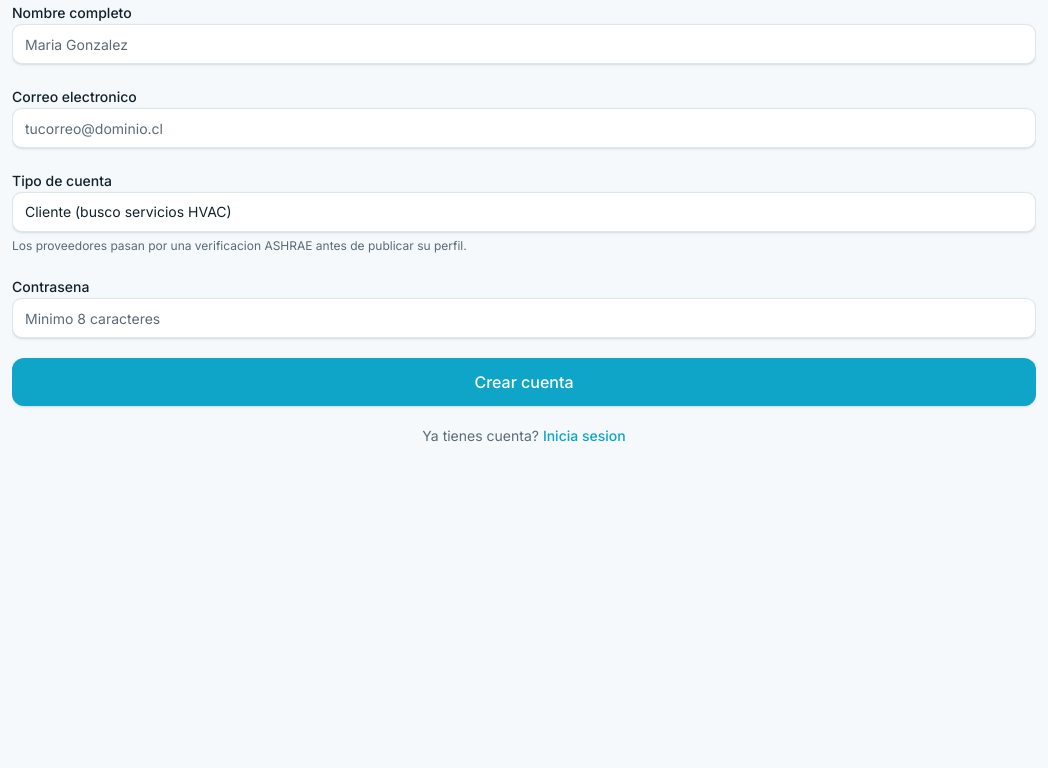
it: AuthForm (registro) › valida RUT y telefono cuando el rol es proveedor
The width and height of the screenshot is (1048, 768).
Step 1. Select "Proveedor (ofrezco servicios HVAC)" in the dropdown labelled "Tipo de cuenta" → (524, 212), box [12,192,1036,232]
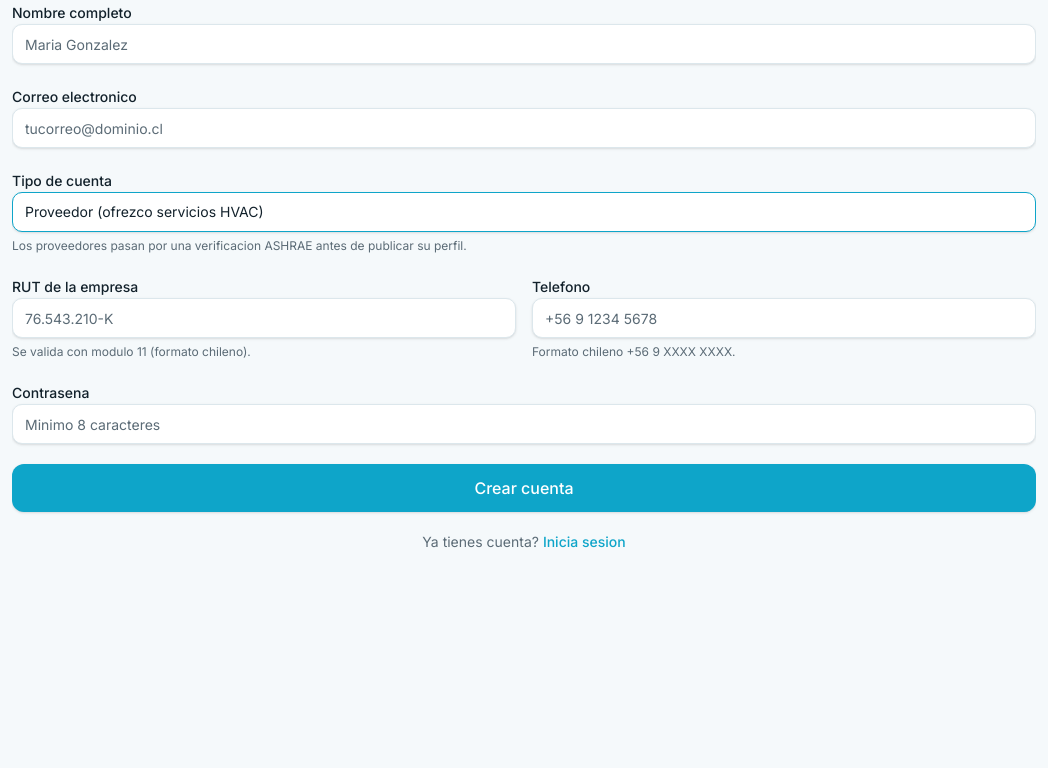
Now the field labelled "RUT de la empresa" is shown, box [12,298,516,338]
Step 2. Type "Empresa Test SpA" into the field labelled "Nombre completo" → (524, 44), box [12,24,1036,64]
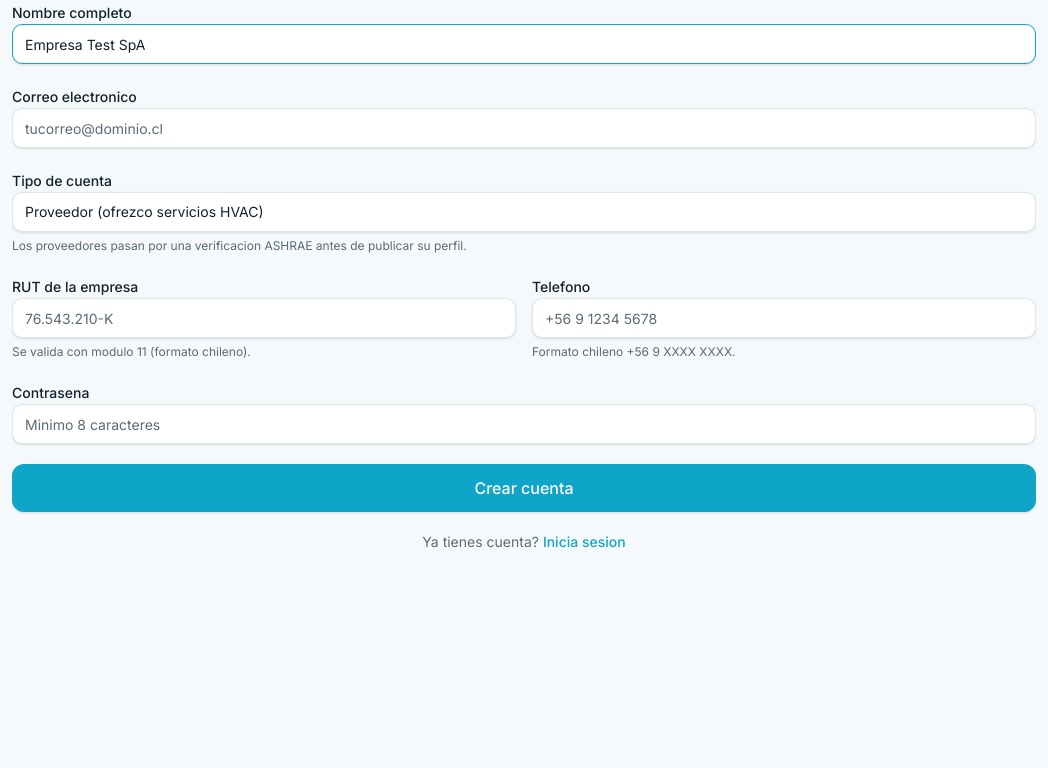
Step 3. Type "proveedor@test.cl" into the field labelled "Correo electronico" → (524, 128), box [12,108,1036,148]
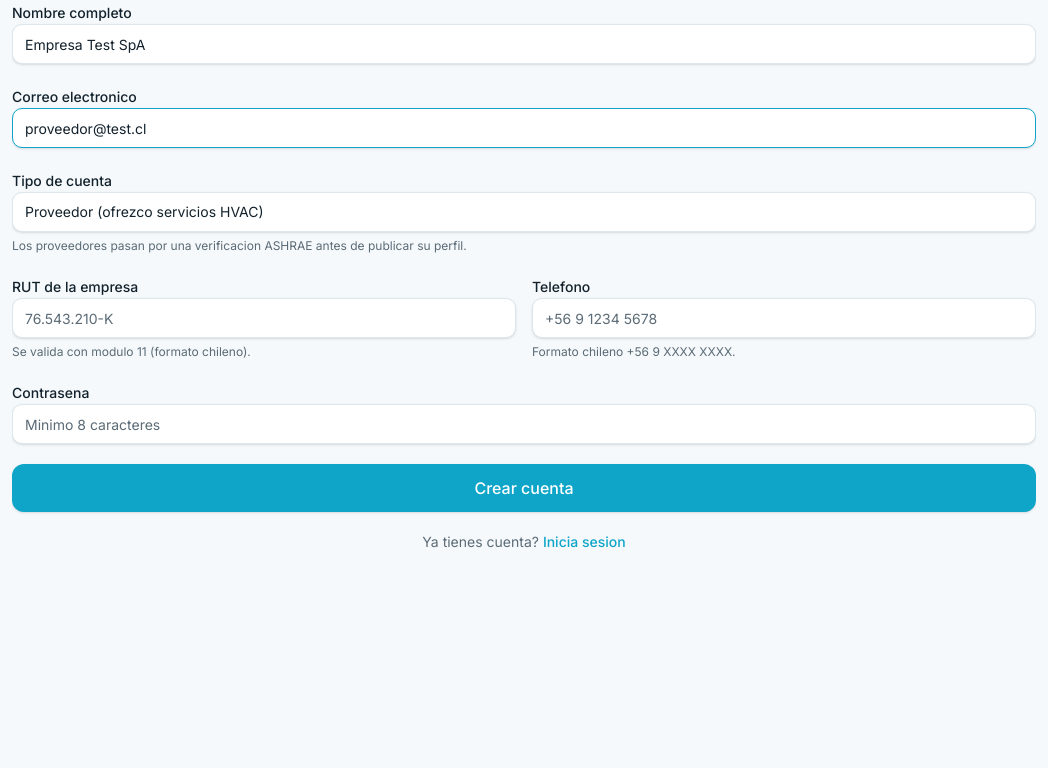
Step 4. Type "password1" into the password field labelled "Contrasena" → (524, 424), box [12,404,1036,444]
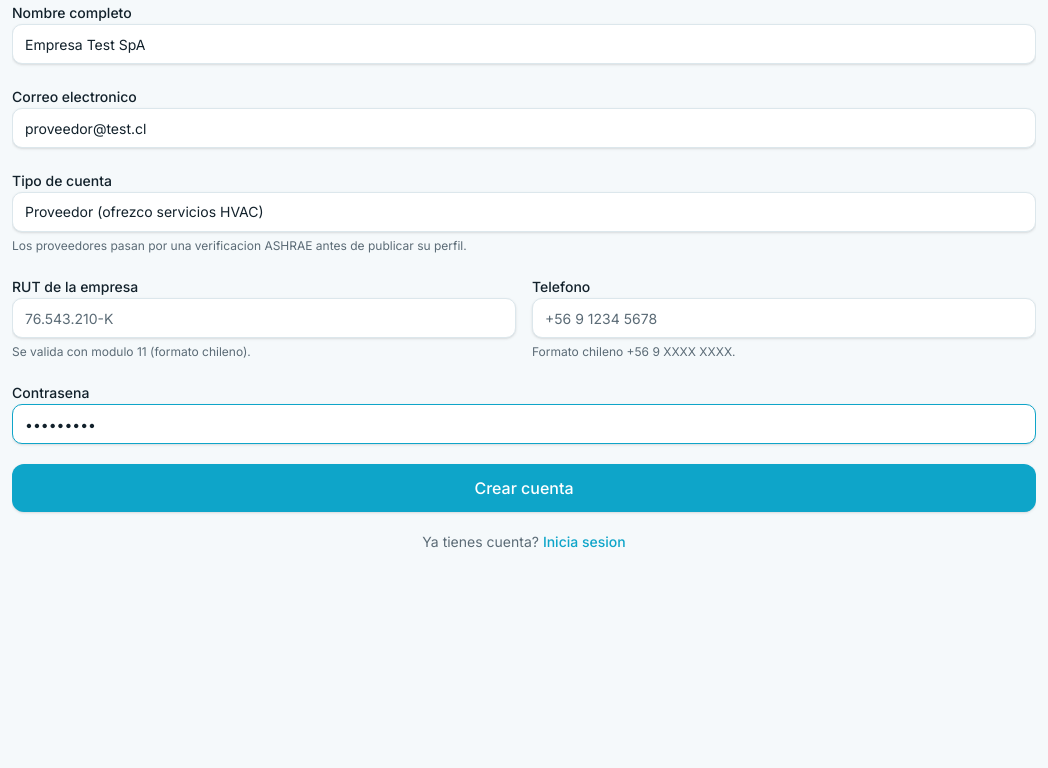
Step 5. Click the button "Crear cuenta" → (524, 488), box [12,464,1036,512]
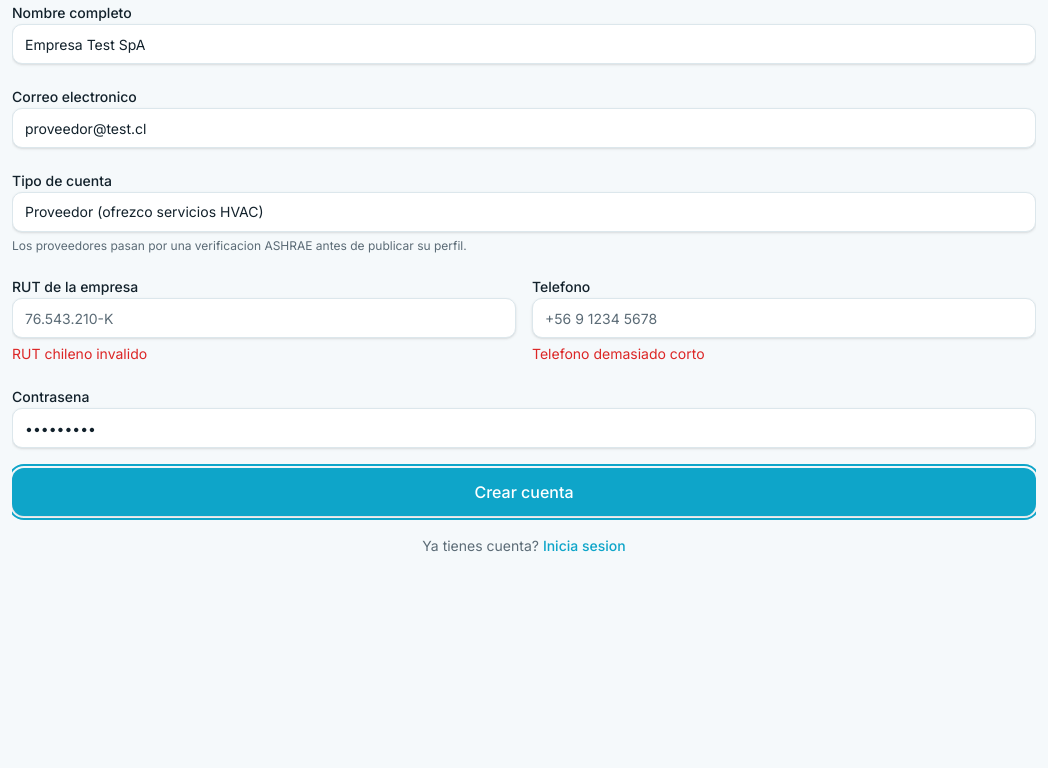
Now the text "RUT chileno invalido" is shown, box [12,345,147,362]
Now the text "Telefono demasiado corto" is shown, box [532,345,705,362]
